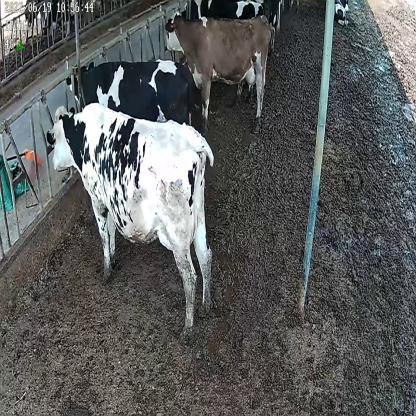cow: (45, 102, 216, 347), (164, 9, 276, 122), (64, 57, 208, 132)
